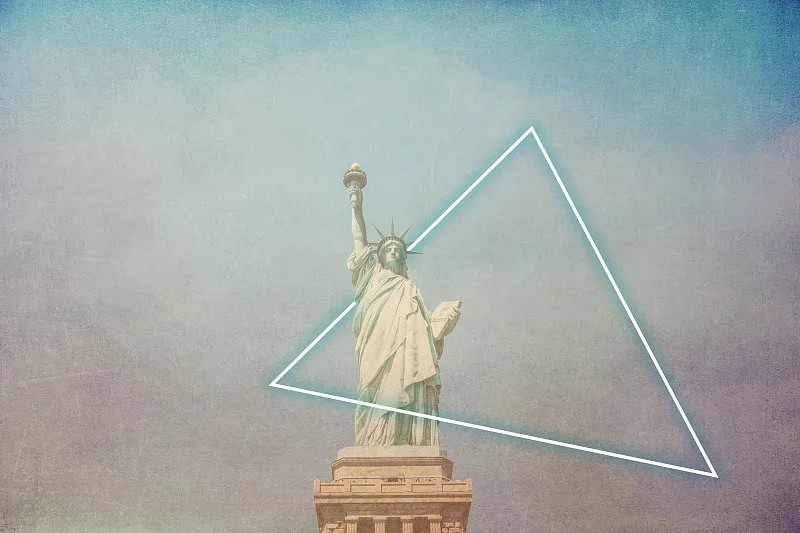SL: (313, 162, 473, 533)
